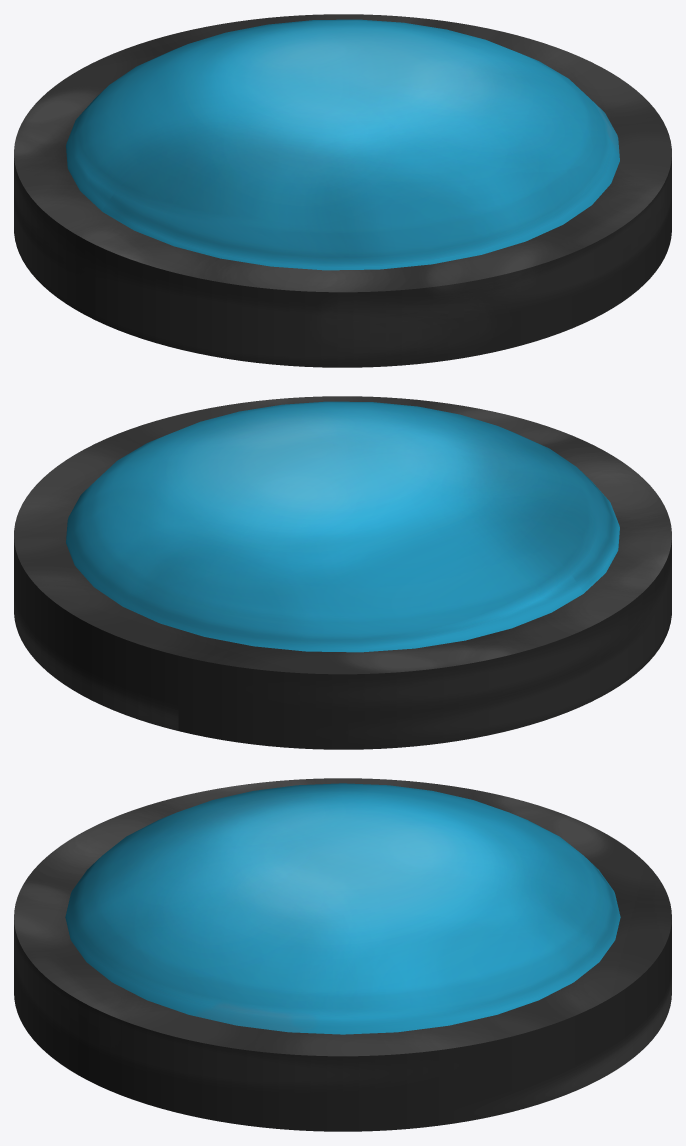
The model's file is eye3.dae.
3 renders of one model, top to bottom at view 1: azimuth 30°, elevation 25°; view 2: azimuth 150°, elevation 25°; view 3: azimuth 270°, elevation 25°, orthographic.
Visible parts, largest first — view 1: Sphere, Cylinder; view 2: Sphere, Cylinder; view 3: Sphere, Cylinder.
Boxes of the visible parts, left/top/right/bottom form: Sphere: left=66, top=19, right=619, bottom=270; Cylinder: left=14, top=14, right=671, bottom=367; Sphere: left=66, top=401, right=619, bottom=652; Cylinder: left=14, top=396, right=671, bottom=749; Sphere: left=65, top=783, right=620, bottom=1034; Cylinder: left=14, top=778, right=671, bottom=1131.
Bounding box in the file's own units: 2 × 2 × 0.5934.
2 materials, 2 textured.
